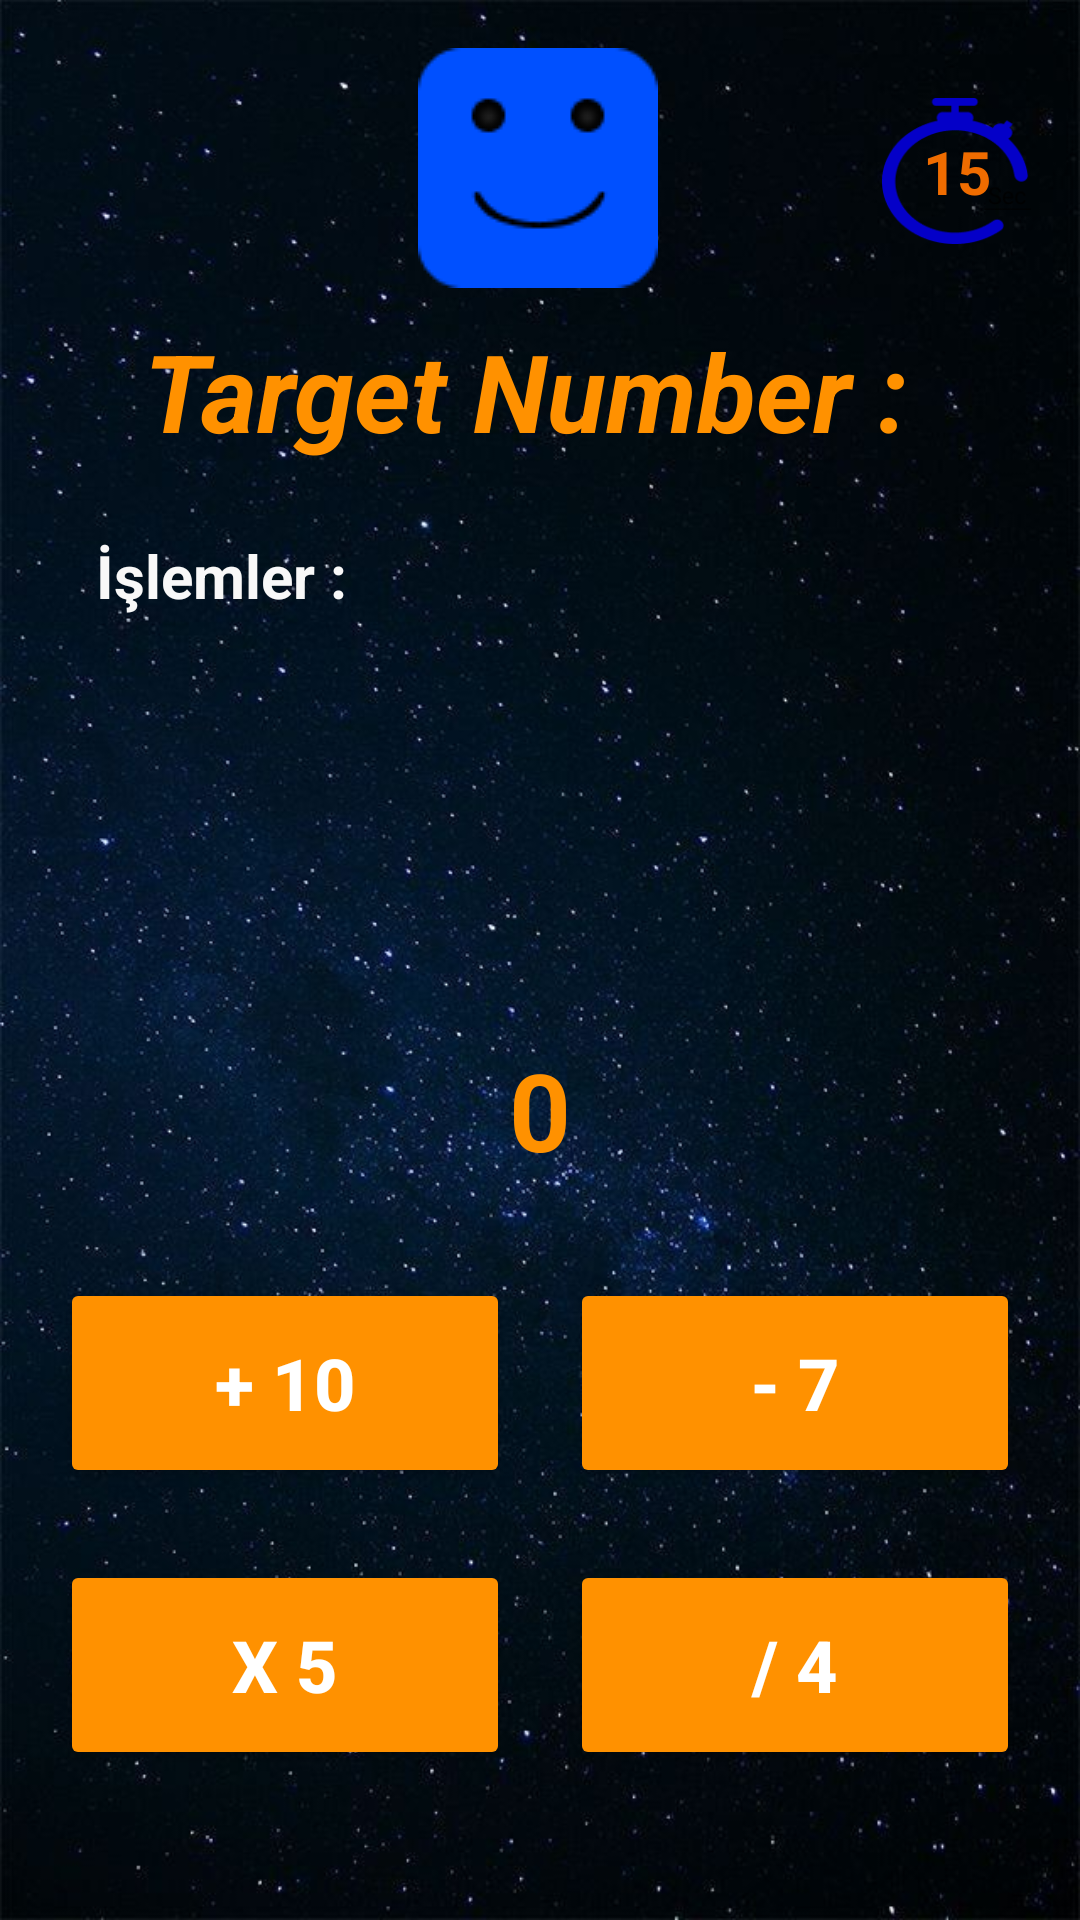

Icon click points for this 1080px×1920px phone screenshot, format (x=x, y=y):
timer: (x=955, y=171)
